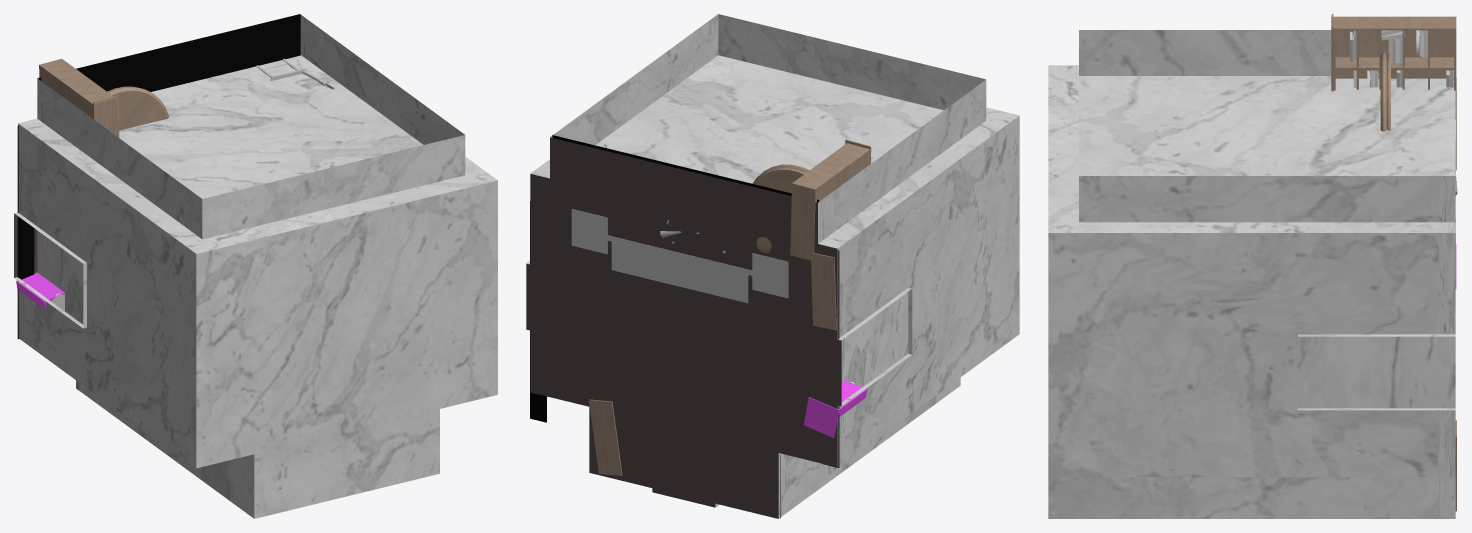
The model's file is Clover_Tile.fbx.
3 renders of one model, left to right at view 1: azimuth 30°, elevation 25°; view 2: azimuth 150°, elevation 25°; view 3: azimuth 270°, elevation 25°, orthographic. The views are drawn at different scales.
Parts seen in each view (by area): view 1: CloverTile, WideHallwayOpeningBlockerB, Plane, CasesShelf__1_, DoorBlockerOffset3_001__1__1, RoundTable__3_, Plane__1__2, Cube_1; view 2: CloverTile, WideHallwayOpeningBlockerB, Fireplace__2_, DoorBlockerOffset3_001__1__1, CasesShelf__1_, CasesShelf__2_, CasesShelf__3_, Cube_1, RoundTable__3_, Plane, Plane__1__1; view 3: CloverTile, WideHallwayOpeningBlockerB, DoorBlockerOffset3_001__1_, CasesShelf__1_, RoundTable__3_.
Part boxes in pixels (x1,y1,x2,y2): CloverTile: [14, 14, 497, 518]; WideHallwayOpeningBlockerB: [119, 55, 423, 198]; Plane: [39, 14, 300, 91]; CasesShelf__1_: [39, 58, 119, 137]; DoorBlockerOffset3_001__1__1: [37, 230, 83, 324]; RoundTable__3_: [107, 86, 169, 130]; Plane__1__2: [17, 125, 34, 338]; Cube_1: [16, 272, 64, 309]; CloverTile: [526, 14, 1019, 518]; WideHallwayOpeningBlockerB: [595, 55, 943, 183]; Fireplace__2_: [571, 209, 788, 303]; DoorBlockerOffset3_001__1__1: [841, 292, 908, 386]; CasesShelf__1_: [790, 139, 871, 260]; CasesShelf__2_: [589, 399, 622, 475]; CasesShelf__3_: [810, 252, 836, 330]; Cube_1: [803, 380, 867, 437]; RoundTable__3_: [752, 164, 809, 252]; Plane: [552, 135, 819, 202]; Plane__1__1: [530, 201, 546, 422]; CloverTile: [1048, 30, 1455, 518]; WideHallwayOpeningBlockerB: [1079, 76, 1455, 175]; DoorBlockerOffset3_001__1_: [1297, 336, 1455, 408]; CasesShelf__1_: [1331, 14, 1456, 110]; RoundTable__3_: [1380, 52, 1390, 131].
Size of the model in its own units: 800 by 839 by 804.
